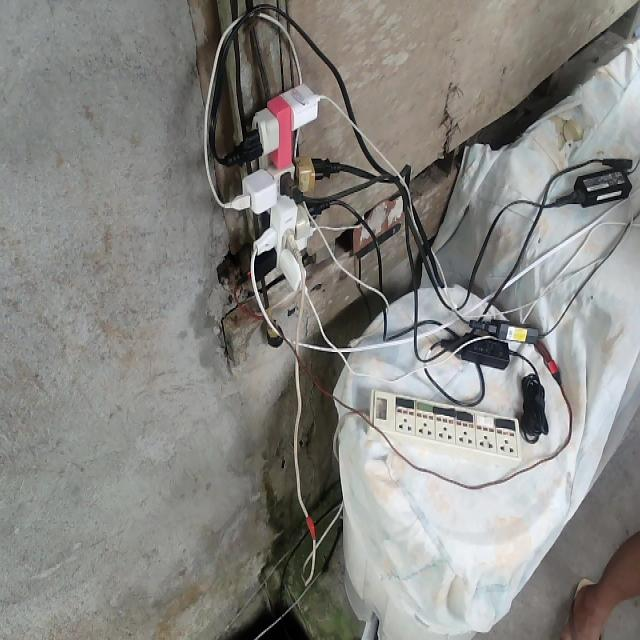-: (220, 80, 341, 293)
